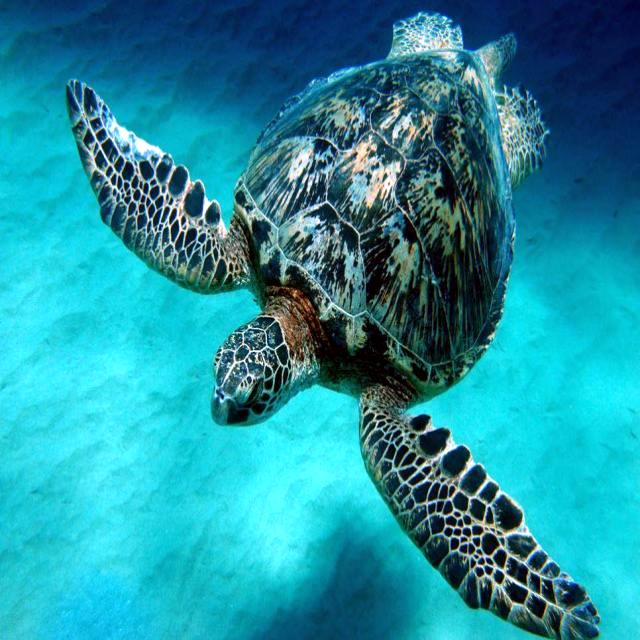Sea turtle: (62, 10, 613, 637)
